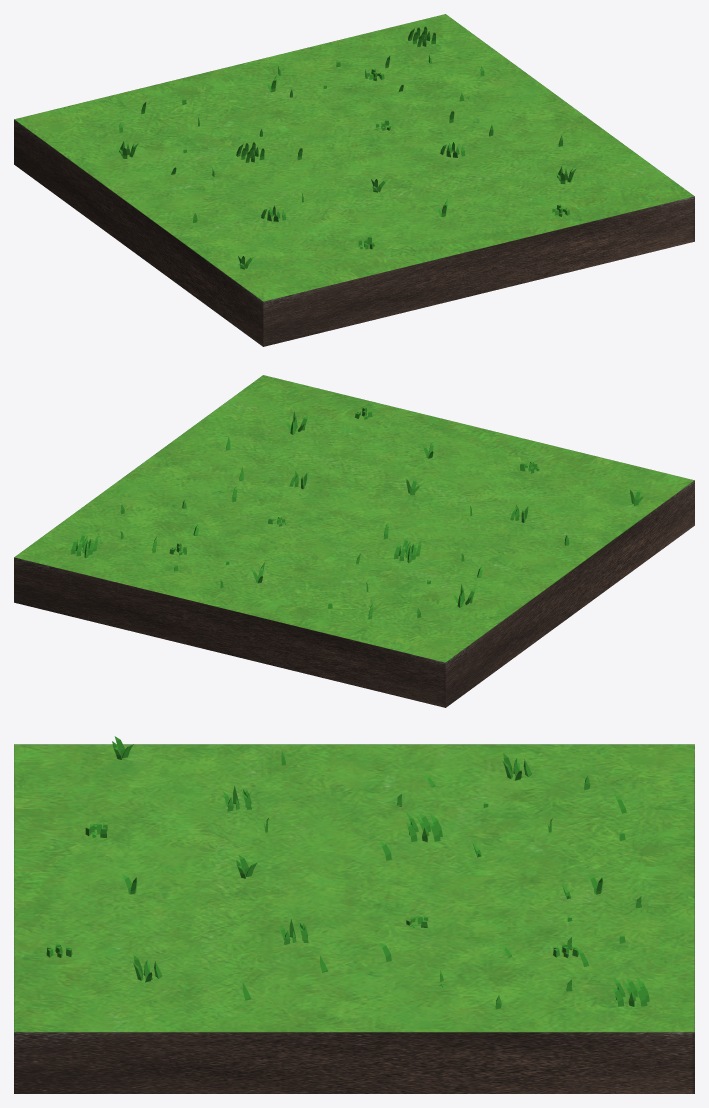
The model's file is GRASSTILE.glb.
The picture shows the model from 3 angles, top to bottom: view 1: azimuth 30°, elevation 25°; view 2: azimuth 150°, elevation 25°; view 3: azimuth 270°, elevation 25°; orthographic projection. The views are drawn at different scales.
Visible parts, largest first — view 1: Cube.002; view 2: Cube.002; view 3: Cube.002.
Part boxes in pixels (left/top/right/bottom): Cube.002: left=14, top=14, right=694, bottom=346; Cube.002: left=14, top=375, right=694, bottom=707; Cube.002: left=14, top=736, right=694, bottom=1093.
Bounding box in the file's own units: 16.02 × 2.13 × 16.02.
Materials: 2 (1 with a texture image).
